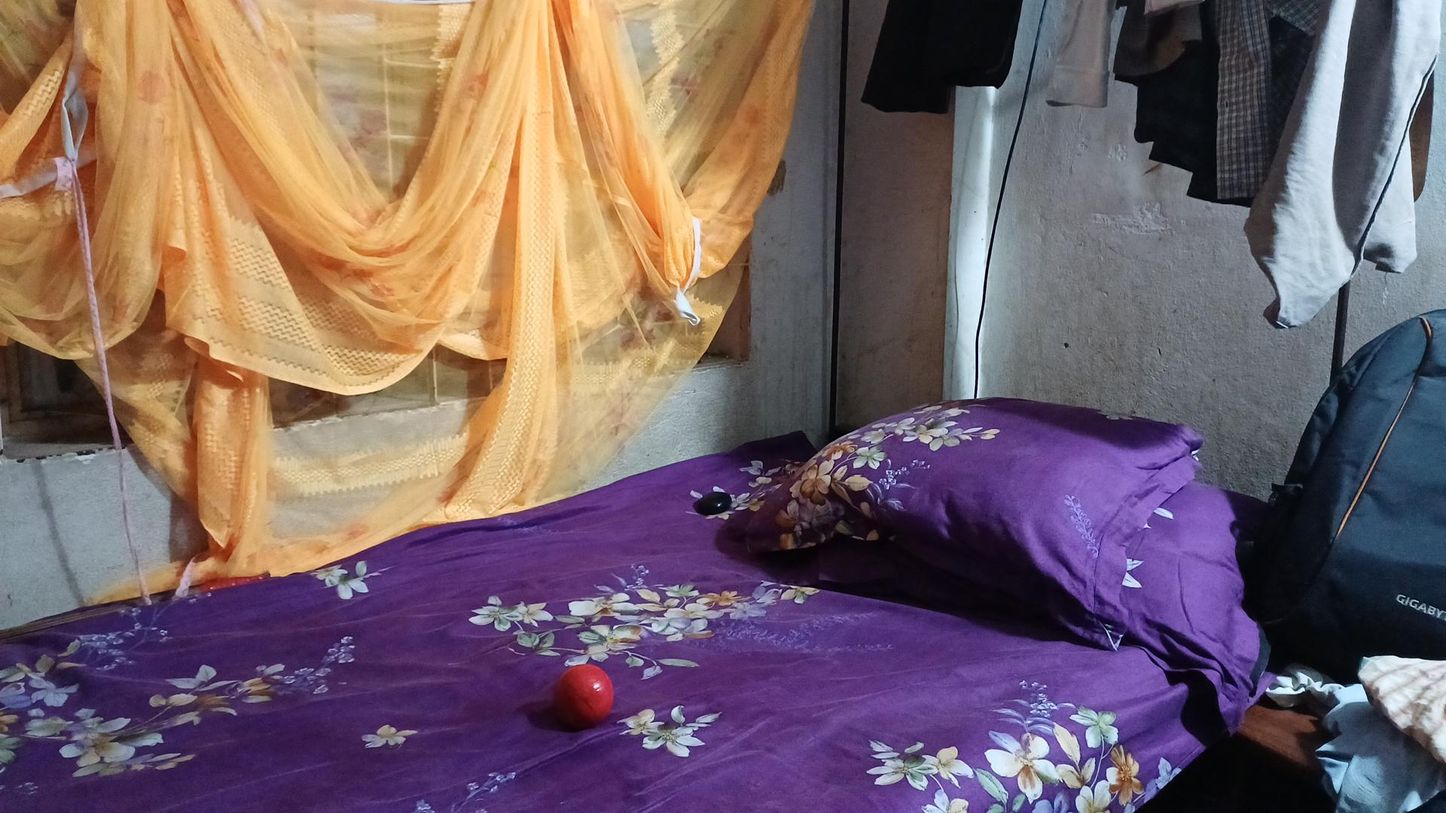Bag: (1261, 278, 1446, 673)
Pillow: (788, 359, 1180, 621)
